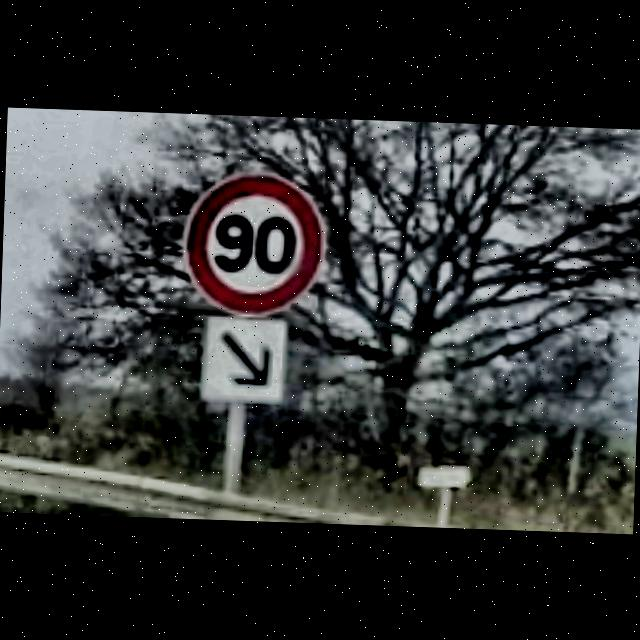speed_90: (182, 168, 329, 321)
